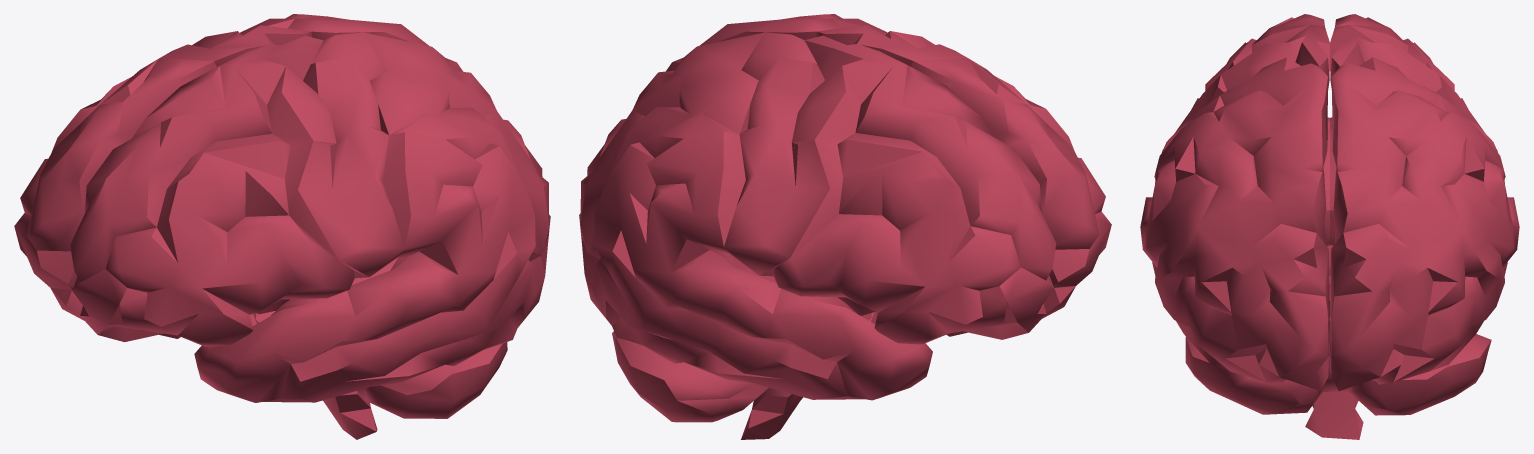
File: Brain.obj
3 renders of one model, left to right at view 1: azimuth 30°, elevation 25°; view 2: azimuth 150°, elevation 25°; view 3: azimuth 270°, elevation 25°, orthographic. The views are drawn at different scales.
Parts seen in each view (by area): view 1: Object_2.002; view 2: Object_2.002; view 3: Object_2.002.
Part boxes in pixels (x1=…): Object_2.002: x1=14, y1=14, x2=550, y2=439; Object_2.002: x1=579, y1=14, x2=1111, y2=439; Object_2.002: x1=1140, y1=14, x2=1519, y2=439.
Bounding box in the file's own units: 3.6 × 3.03 × 2.9.
